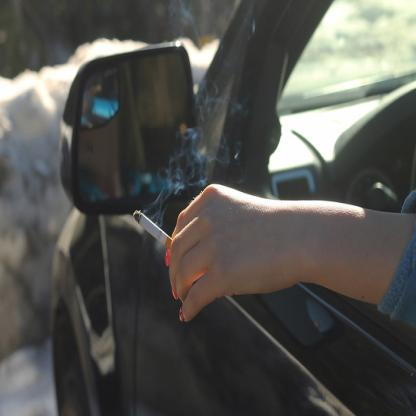smoking: (133, 210, 188, 261)
